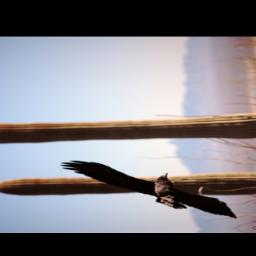Crow: (57, 157, 241, 223)
